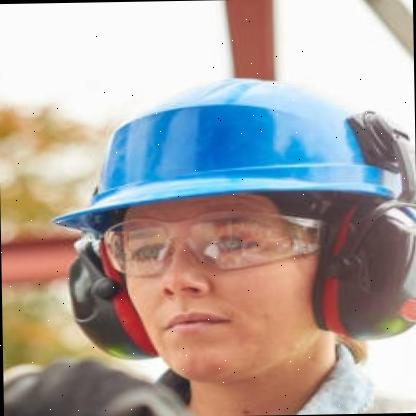capacete: (44, 74, 412, 230)
oculos: (90, 209, 325, 278)
